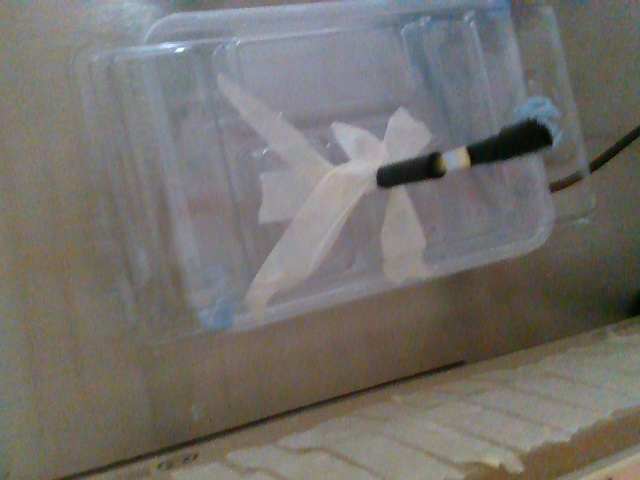test_strip: (441, 117, 553, 172)
